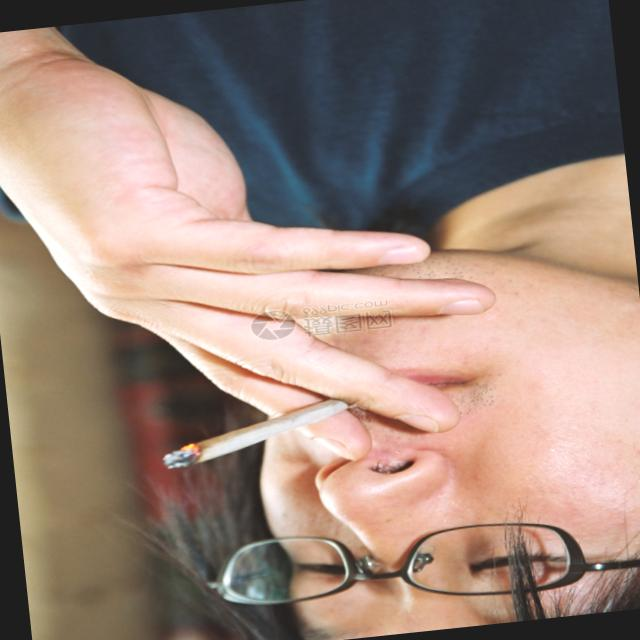smoke: (154, 394, 350, 472)
